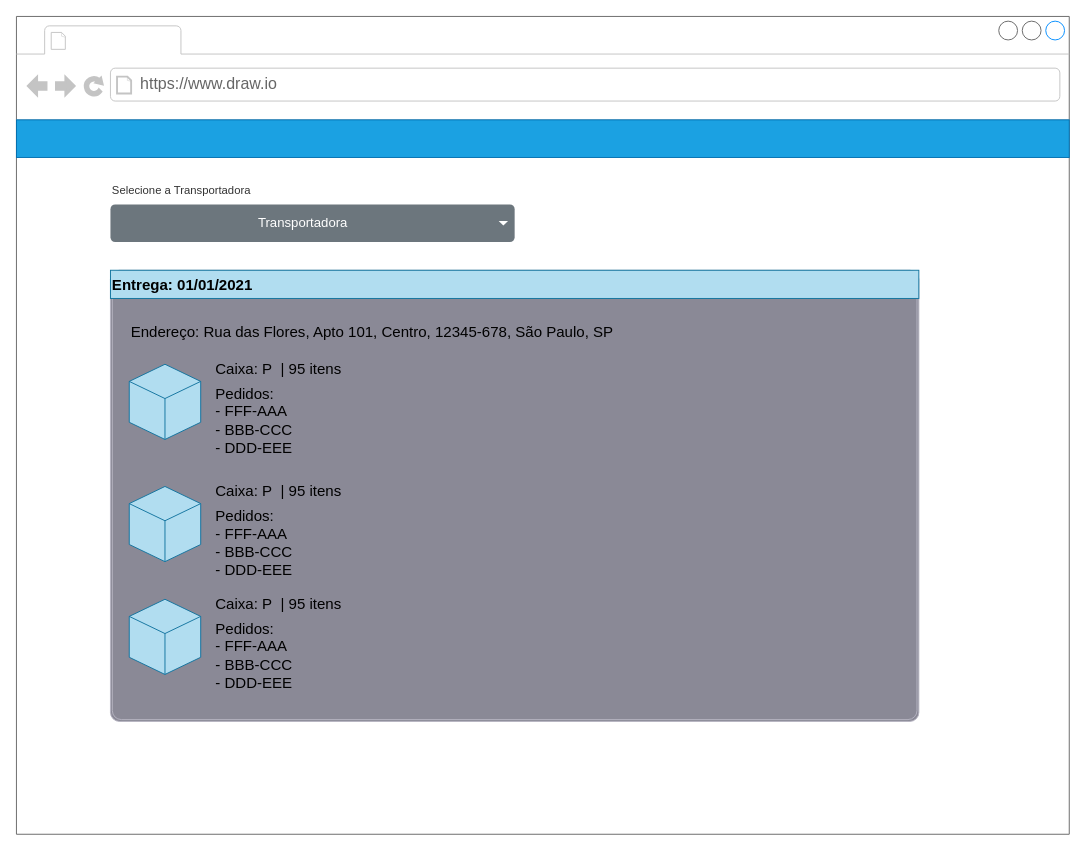
Some shapes in this 1086 by 851 pixel diagram are drawn without their labels. Each missing label, with the centre of its shape:
"Page 1" goes at pixel 124 39.
"Separação de Lotes por Transportadora" goes at pixel 542 138.
